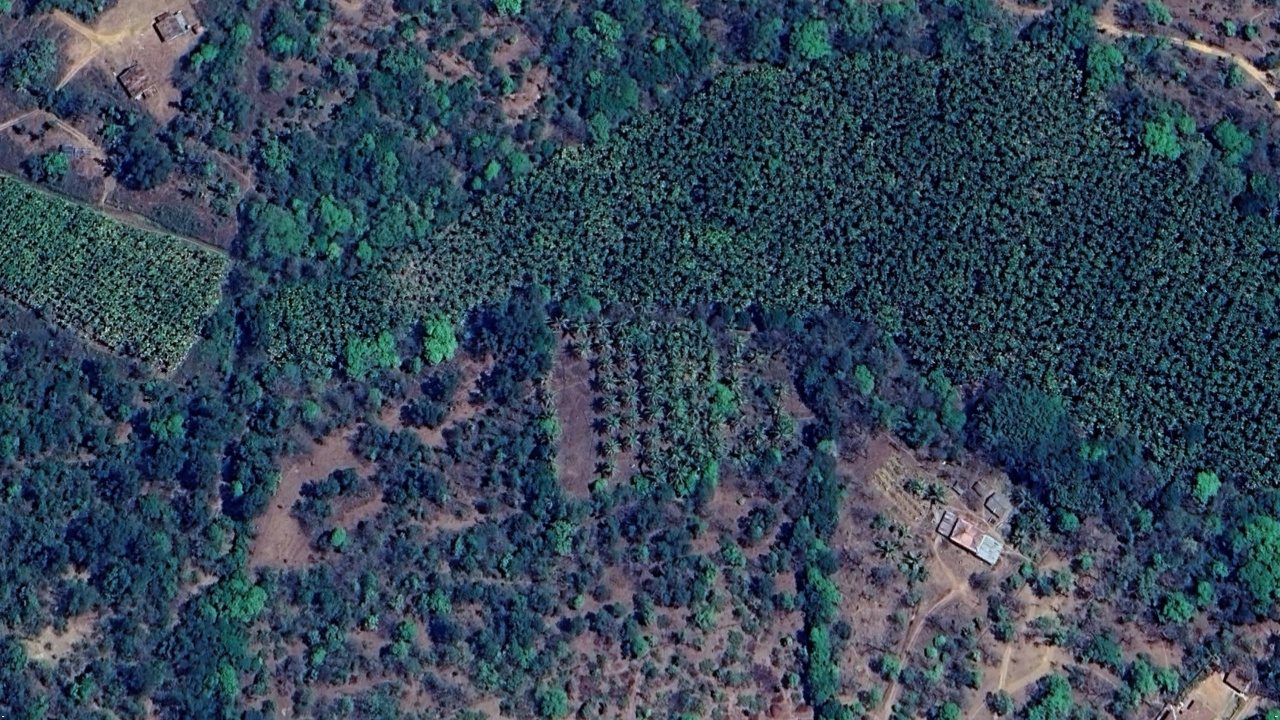arecanut: (732, 59, 1275, 414), (333, 110, 710, 323), (5, 182, 207, 379)
